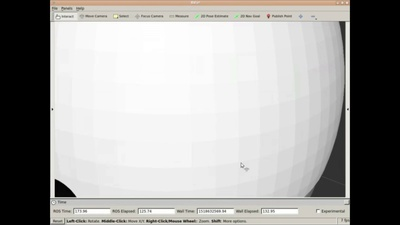mira_robot: (53, 22, 344, 196)
